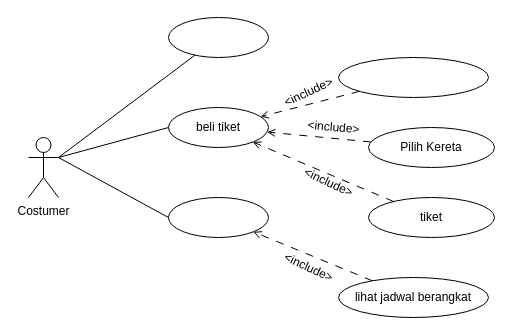
Some shapes in this 512 by 335 pixel diagram are drawn without their labels. The centre of each missing label's shape, as x and y in pixels:
"login" goes at (x=218, y=37).
"pilih tanggal berangkat" goes at (x=413, y=77).
"view scedule" goes at (x=218, y=217).
